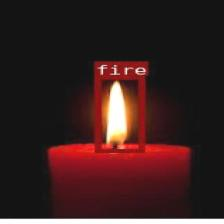fire: (93, 75, 144, 152)
